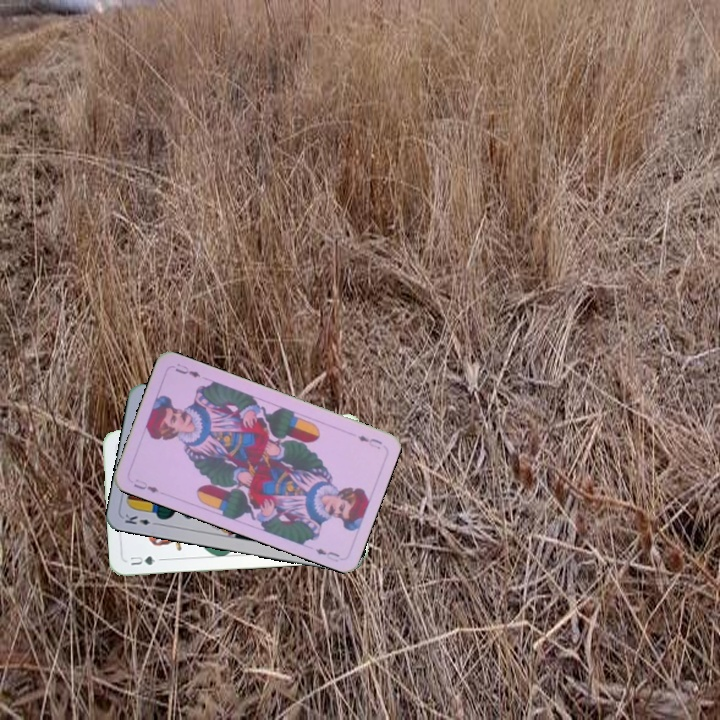EK: (121, 510, 161, 528)
EU: (354, 431, 385, 452), (129, 475, 161, 495)
GU: (126, 552, 158, 568)
